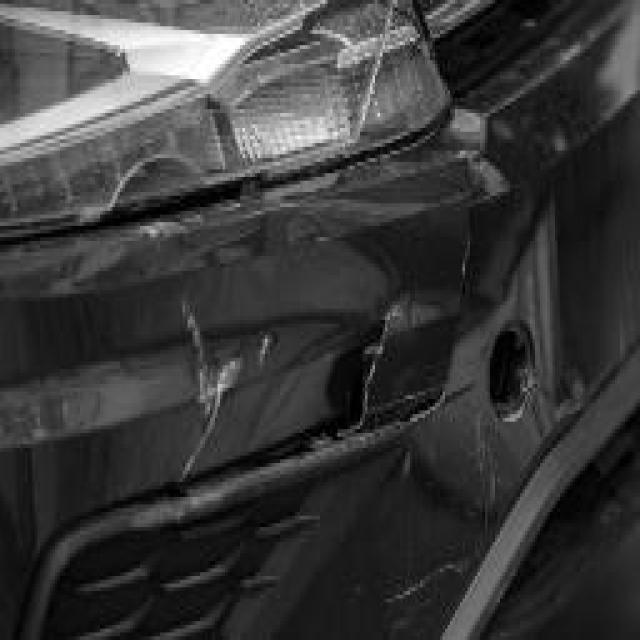Bumper: (120, 184, 522, 617)
